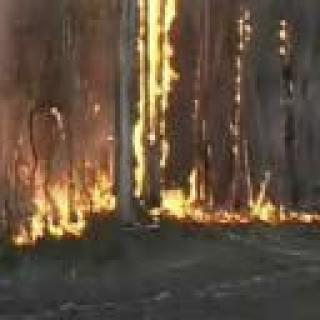fire: (132, 0, 205, 229), (3, 120, 120, 256), (224, 141, 320, 231)
